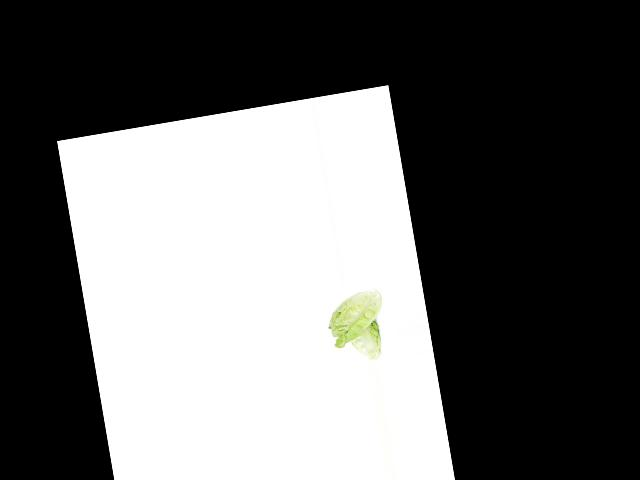lettuce: (346, 318, 387, 364)
